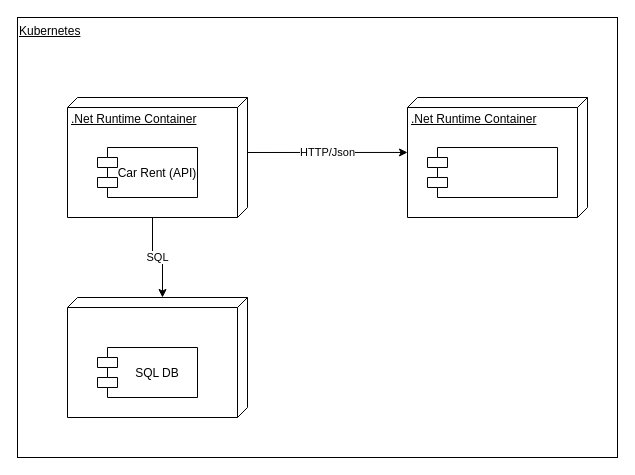
Image size: 635x475. Some labels were removed from this diagram. The shapes that lost their labels are listed below. From the top down, each one's box as (x1, y1, x2, y2) in pixels, then its label:
(426, 146, 558, 198): Razzor Frontend
(66, 296, 248, 418): Database
